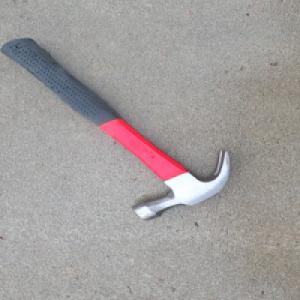Hammer: (0, 36, 233, 221)
